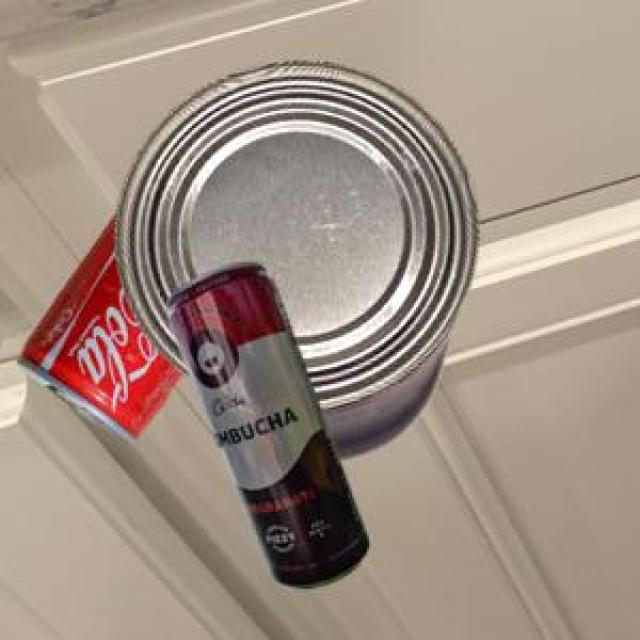logam: (112, 57, 477, 458), (163, 259, 366, 586), (14, 210, 180, 441)
